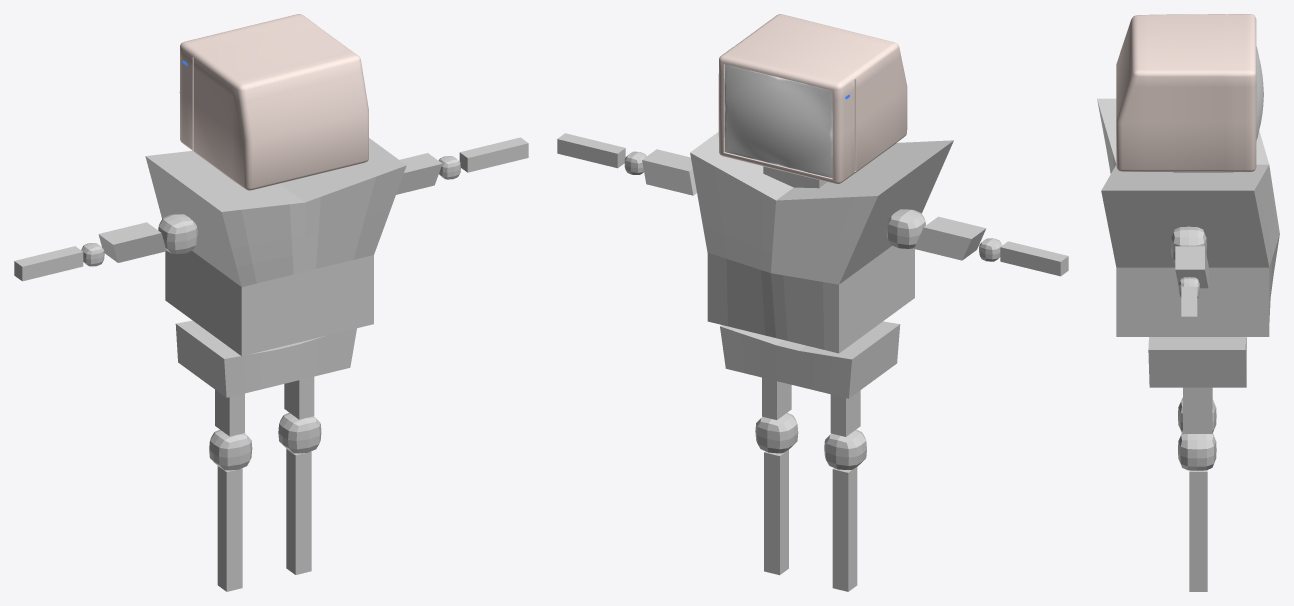
Rendered from robot_fig.glb.
3 renders of one model, left to right at view 1: azimuth 30°, elevation 25°; view 2: azimuth 150°, elevation 25°; view 3: azimuth 270°, elevation 25°, orthographic.
Parts seen in each view (by area): view 1: Torso, Head, Left Leg, Right Leg, Right Hand, Left Hand, Left Knee, Right Knee, Right Shoulder; view 2: Torso, Head, Right Leg, Left Leg, Right Hand, Left Hand, Left Knee, Right Knee, Right Shoulder, Neck; view 3: Torso, Head, Left Leg, Left Knee, Left Hand, Left Shoulder, Right Knee, Left Elbow.
Boxes of the visible parts, box(x1,y1,x2,y2) form: Torso: box(98, 138, 442, 436); Head: box(179, 14, 368, 190); Left Leg: box(286, 449, 311, 574); Right Leg: box(217, 466, 242, 591); Right Hand: box(14, 246, 83, 281); Left Hand: box(459, 137, 528, 172); Left Knee: box(278, 412, 321, 453); Right Knee: box(209, 429, 252, 470); Right Shoulder: box(158, 214, 198, 253); Torso: box(642, 132, 986, 436); Head: box(718, 14, 907, 184); Right Leg: box(832, 467, 857, 591); Left Leg: box(764, 450, 788, 575); Right Hand: box(1000, 241, 1068, 276); Left Hand: box(557, 133, 625, 168); Left Knee: box(755, 412, 798, 453); Right Knee: box(824, 429, 866, 469); Right Shoulder: box(886, 209, 925, 248); Neck: box(763, 166, 826, 188); Torso: box(1097, 98, 1279, 433); Head: box(1116, 14, 1263, 172); Left Leg: box(1189, 470, 1207, 591); Left Knee: box(1178, 431, 1216, 470); Left Hand: box(1181, 286, 1197, 331); Left Shoulder: box(1171, 226, 1206, 262); Right Knee: box(1178, 398, 1216, 432); Left Elbow: box(1178, 277, 1199, 298).
Bounding box in the file's own units: 10.85 × 10.86 × 3.39.
